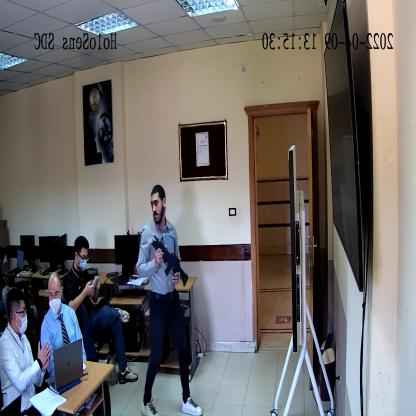handgun: (151, 236, 189, 289)
